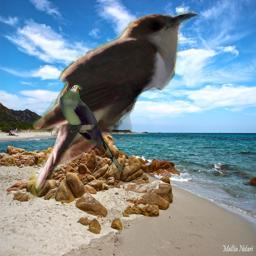Cuckoo: (28, 9, 199, 212), (59, 84, 128, 173)
